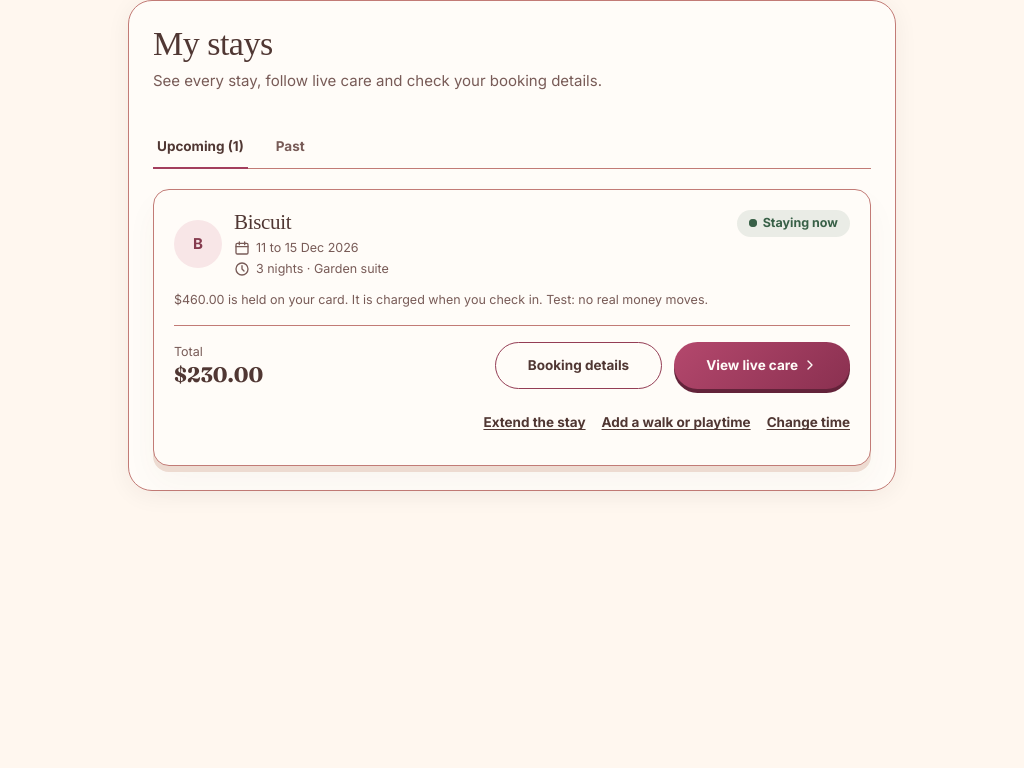
changes while the pet is staying › books an add-on without a saved card and says it is paid at the desk at check-out
Click the button "Add a walk or playtime" at (676, 423), box [602, 401, 751, 445]
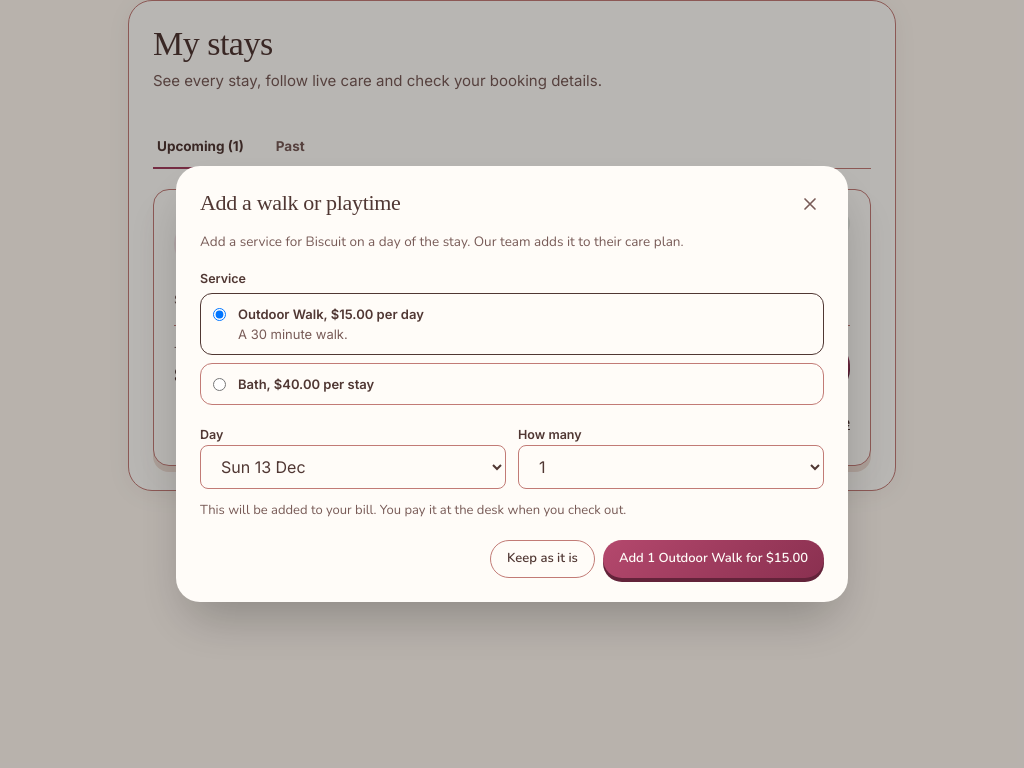
Expected: the dialog "Add a walk or playtime" does not show "This is charged to your saved card now.", [176, 166, 848, 602]
Expected: the radio button labelled "Outdoor Walk, $15.00 per day A 30 minute walk." is shown, [213, 308, 226, 321]
Expected: the dialog "Add a walk or playtime" shows "This will be added to your bill. You pay it at the desk when you check out.", [200, 501, 626, 519]
Click the button "Add 1 Outdoor Walk for $15.00" at (713, 559), box [603, 540, 824, 578]
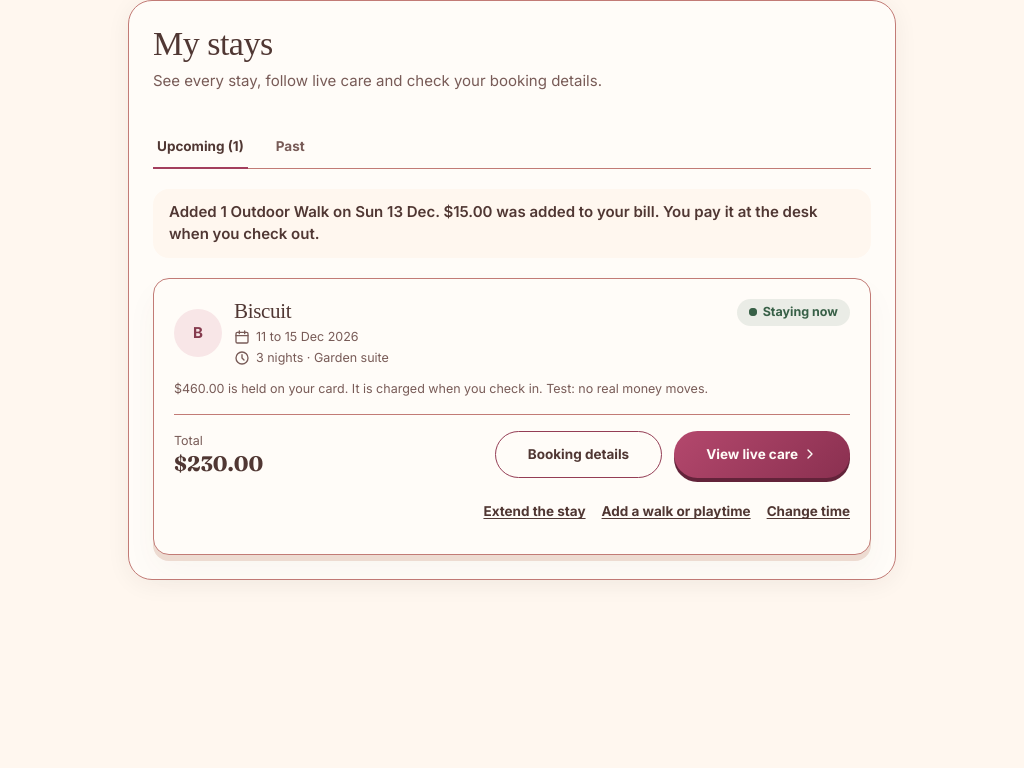
Expected: the message shows "Added 1 Outdoor Walk on Sun 13 Dec. $15.00 was added to your bill. You pay it at the desk when you check out.", [169, 202, 818, 243]
